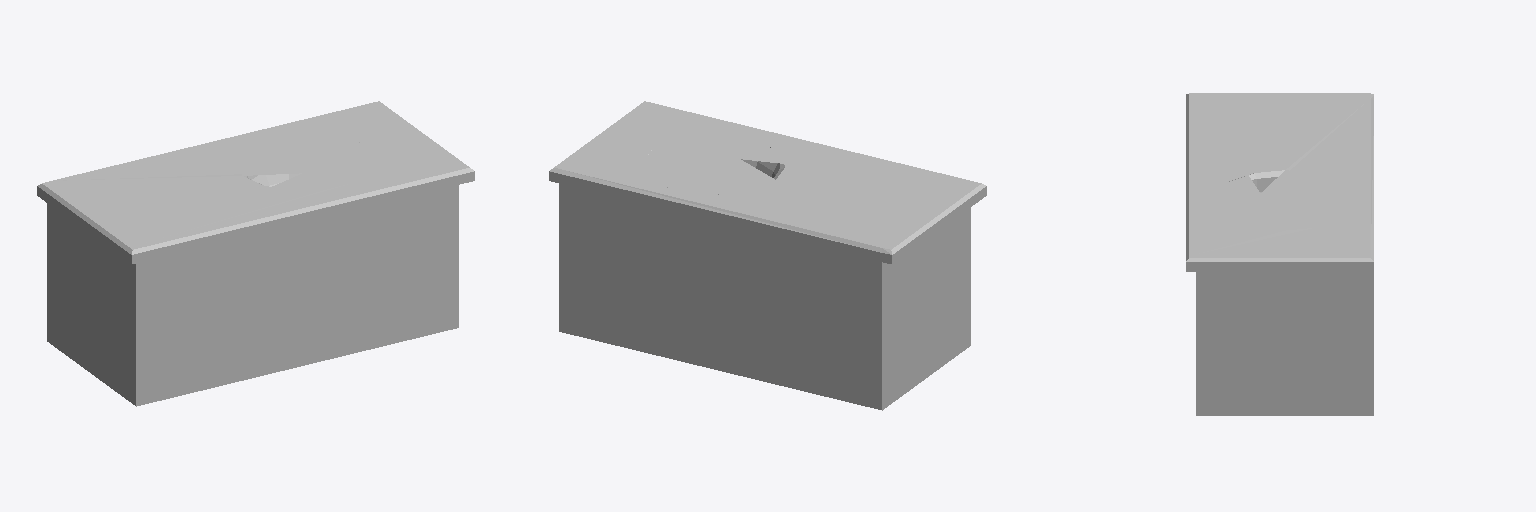
The model's file is Aanrecht.obj.
The picture shows the model from 3 angles: view 1: azimuth 30°, elevation 25°; view 2: azimuth 150°, elevation 25°; view 3: azimuth 270°, elevation 25°; orthographic projection.
Visible parts, largest first — view 1: pCube2; view 2: pCube2; view 3: pCube2.
Part boxes in pixels (bbox=[...]): pCube2: bbox=[37, 101, 474, 406]; pCube2: bbox=[549, 101, 986, 410]; pCube2: bbox=[1186, 93, 1373, 415].
Bounding box in the file's own units: 2.23 × 1 × 1.06.